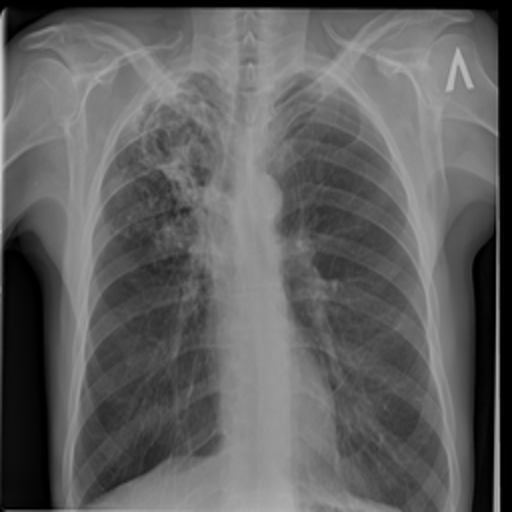TB: (124, 86, 218, 275)
